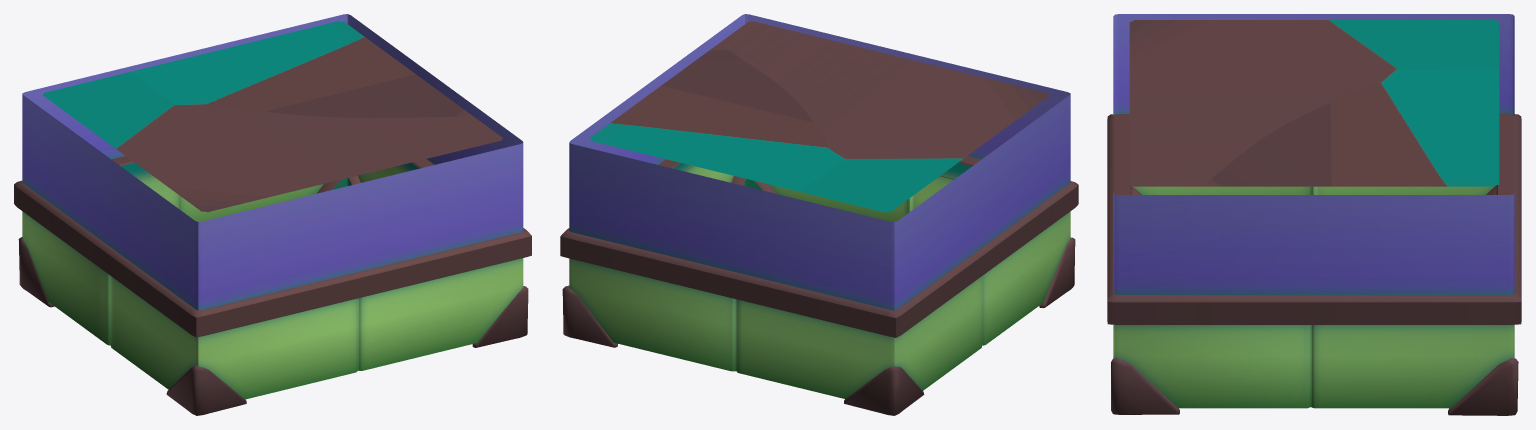
Rendered from HoopsBoxWall.fbx.
3 views of the same model, side by side, from view 1: azimuth 30°, elevation 25°; view 2: azimuth 150°, elevation 25°; view 3: azimuth 270°, elevation 25° (orthographic). The views are drawn at different scales.
Parts seen in each view (by area): view 1: ENV_S02_MovableBox_MO_0; view 2: ENV_S02_MovableBox_MO_0; view 3: ENV_S02_MovableBox_MO_0.
Boxes of the visible parts, x1=… form: ENV_S02_MovableBox_MO_0: x1=14, y1=14, x2=531, y2=415; ENV_S02_MovableBox_MO_0: x1=560, y1=14, x2=1078, y2=415; ENV_S02_MovableBox_MO_0: x1=1107, y1=14, x2=1521, y2=415.
Bounding box in the file's own units: 12.46 × 6.87 × 11.69.
